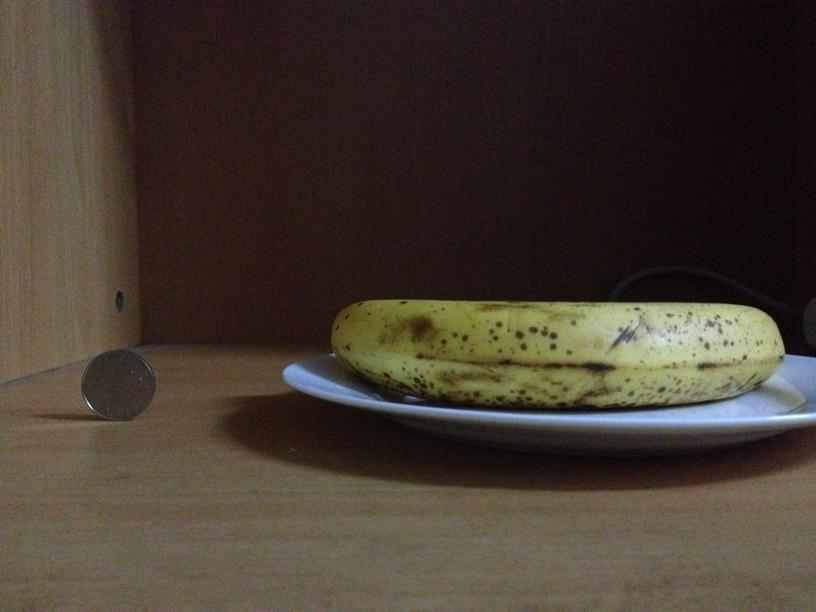banana: (332, 292, 786, 409)
coin: (78, 348, 156, 422)
